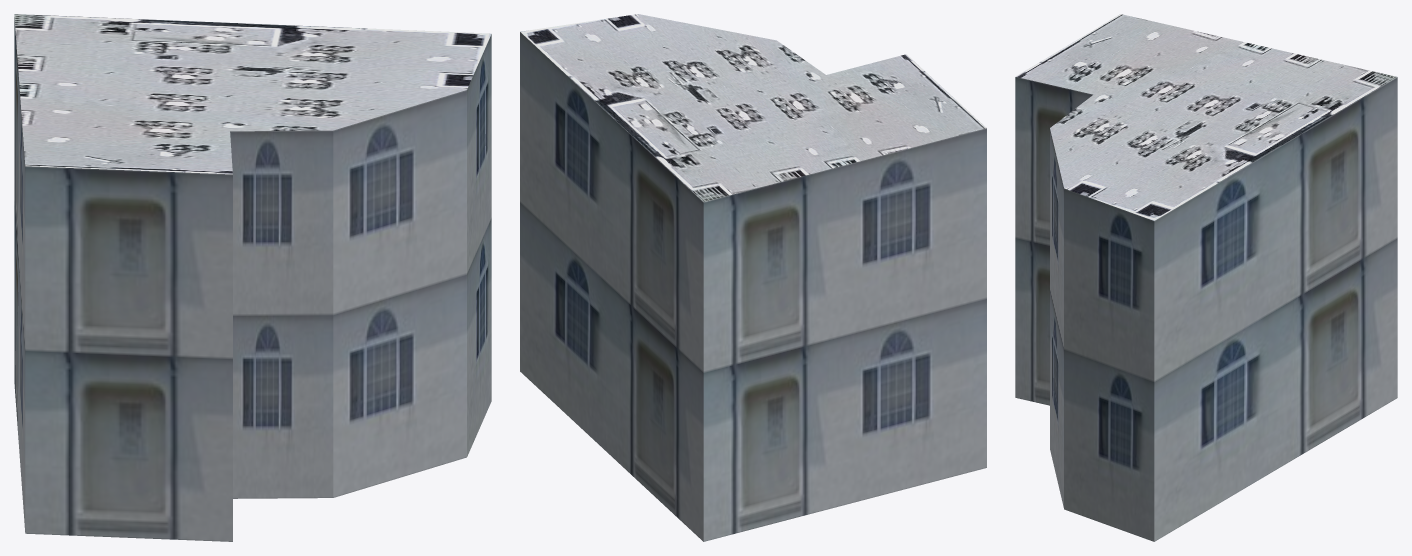
File: ResTex__4470.fbx
3 views of the same model, side by side, from view 1: azimuth 30°, elevation 25°; view 2: azimuth 150°, elevation 25°; view 3: azimuth 270°, elevation 25° (orthographic). The views are drawn at different scales.
Parts seen in each view (by area): view 1: CityEngineMaterial_17_m, CityEngineMaterial_4_m; view 2: CityEngineMaterial_17_m, CityEngineMaterial_4_m; view 3: CityEngineMaterial_17_m, CityEngineMaterial_4_m.
Boxes of the visible parts, bbox=[...] form: CityEngineMaterial_17_m: bbox=[14, 17, 491, 541]; CityEngineMaterial_4_m: bbox=[14, 14, 491, 174]; CityEngineMaterial_17_m: bbox=[520, 32, 986, 541]; CityEngineMaterial_4_m: bbox=[520, 14, 986, 201]; CityEngineMaterial_17_m: bbox=[1015, 77, 1397, 541]; CityEngineMaterial_4_m: bbox=[1015, 14, 1396, 220].
Bounding box in the file's own units: 8.3 × 6 × 6.48.
Materials: 2 (2 with a texture image).
